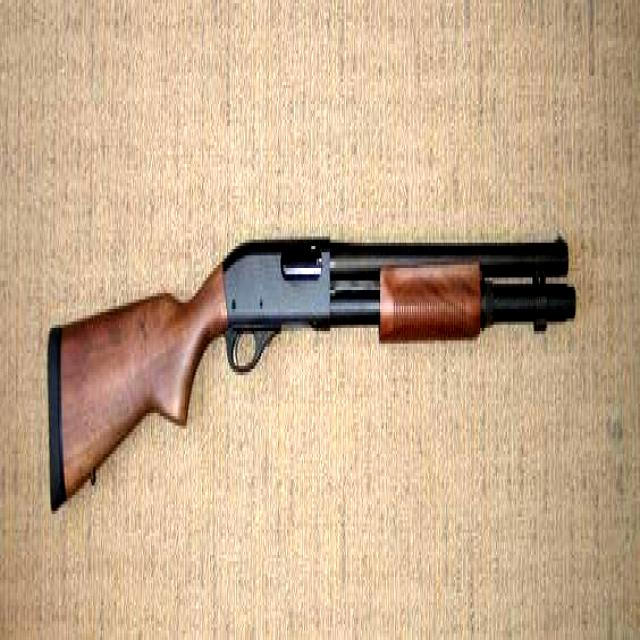shotgun: (39, 204, 581, 526)
